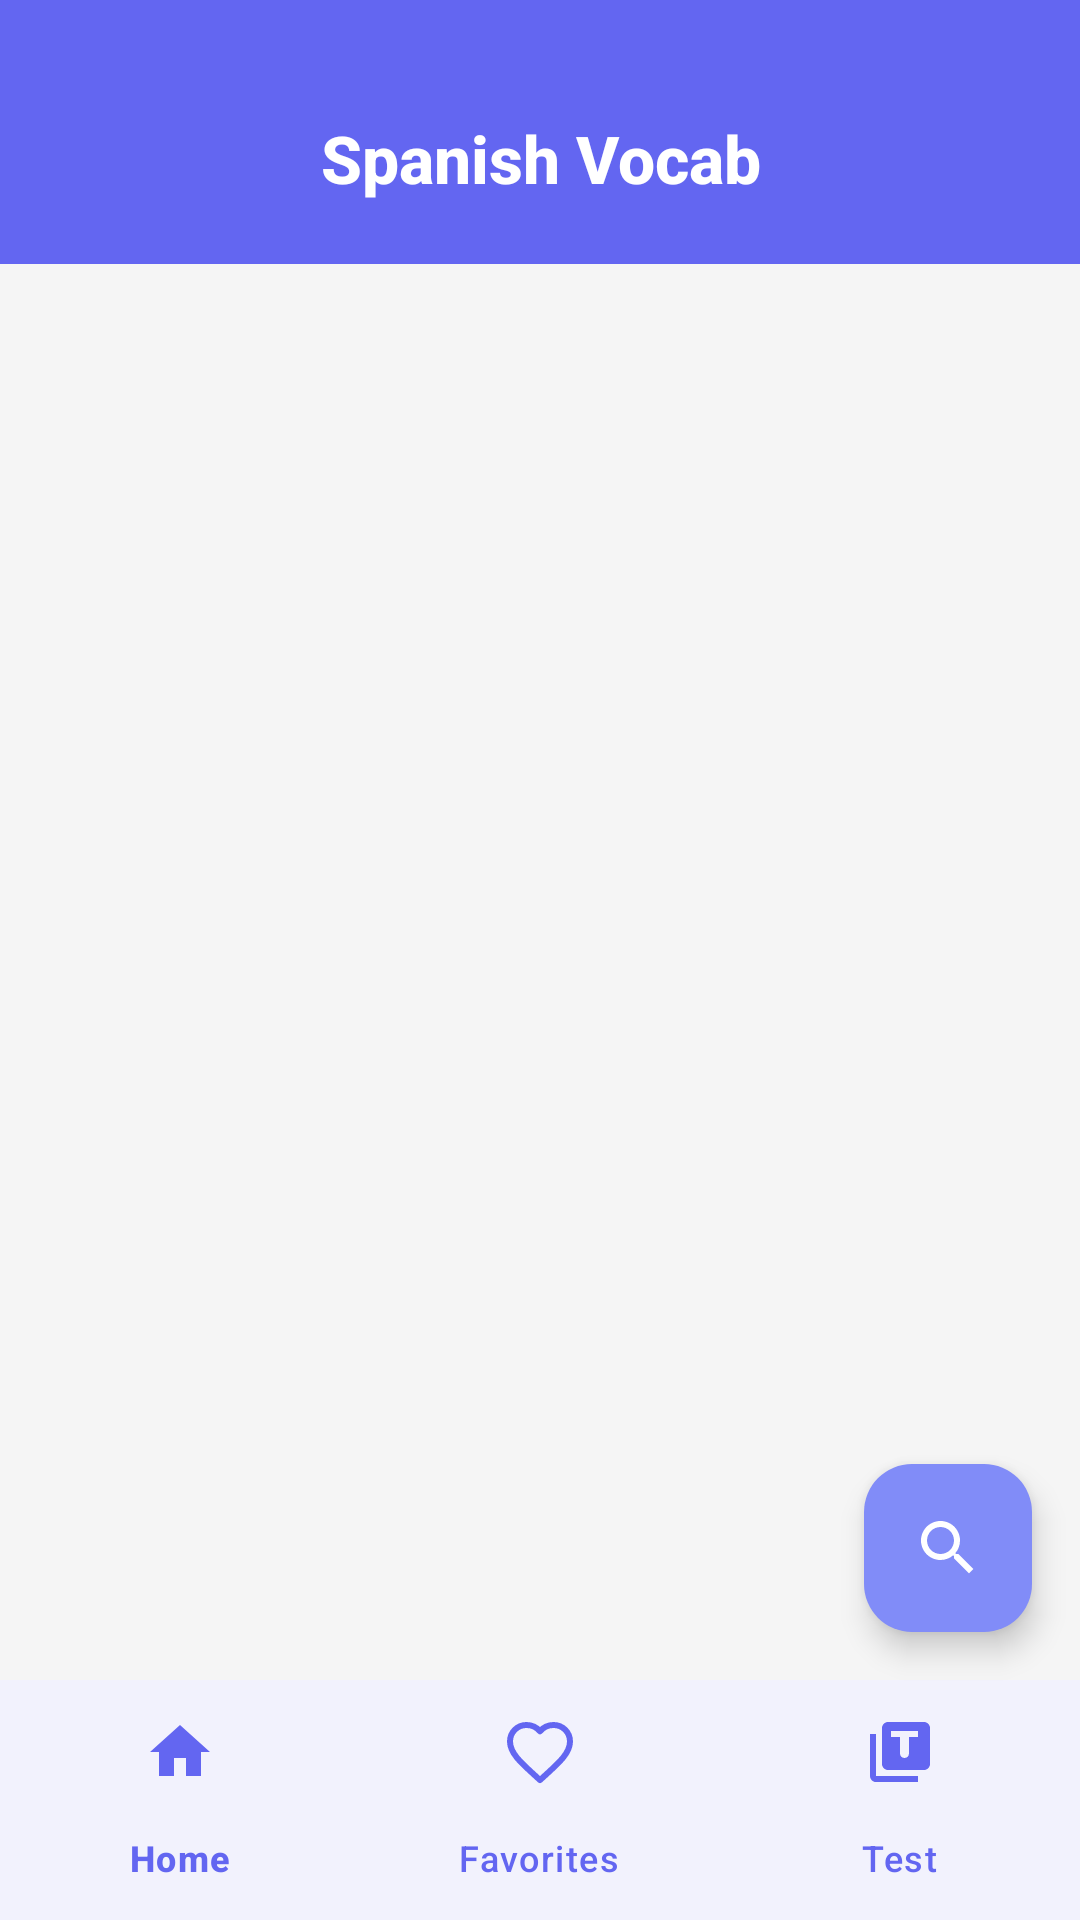

Locate icon controls on the screen. Image size 1080 × 1920, boxes as (x1, y1, x2, y2).
Search: (864, 1464, 1032, 1632)
